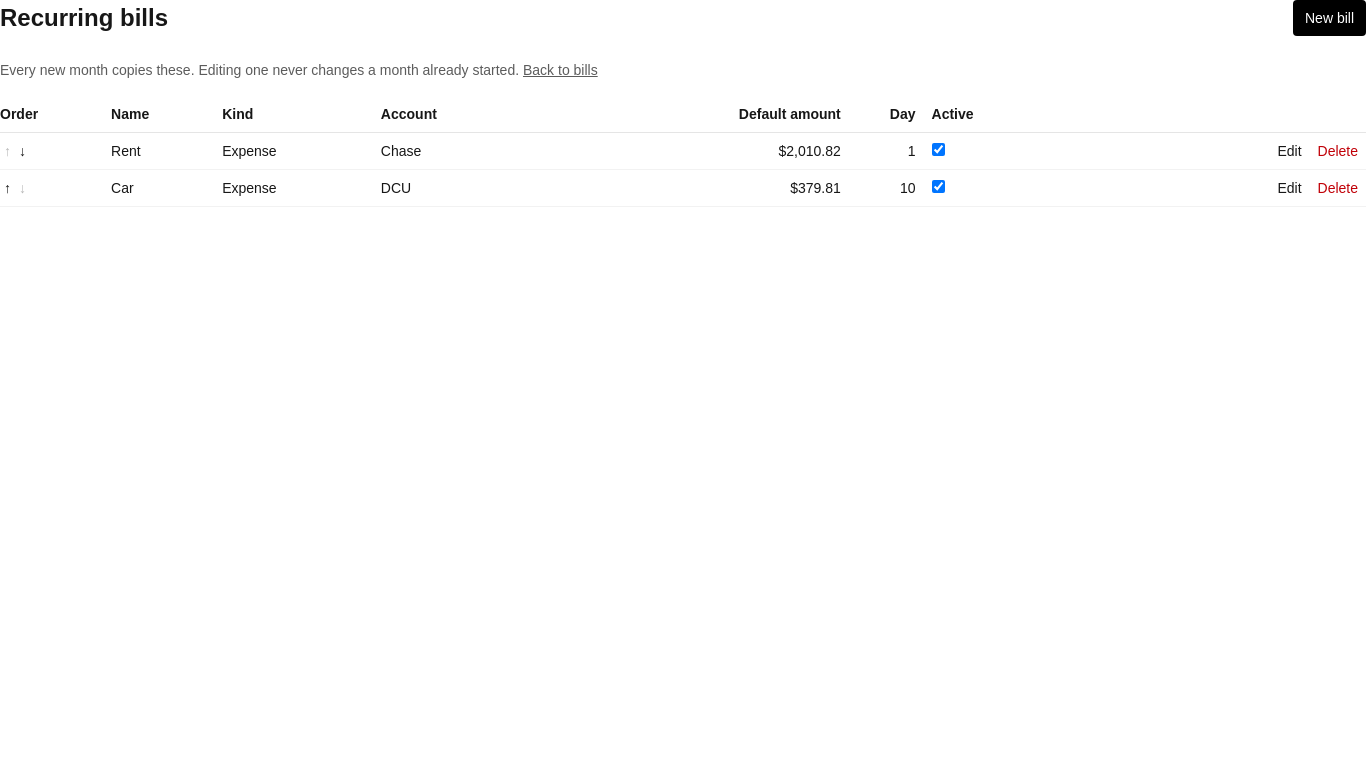
Test: RecurringItemsPage › with no payment accounts, points to Accounts and blocks saving
Expected: the text "Rent" is shown, [111,132,222,170]
Click the button "New bill" at (1330, 18), box [1293,0,1365,36]
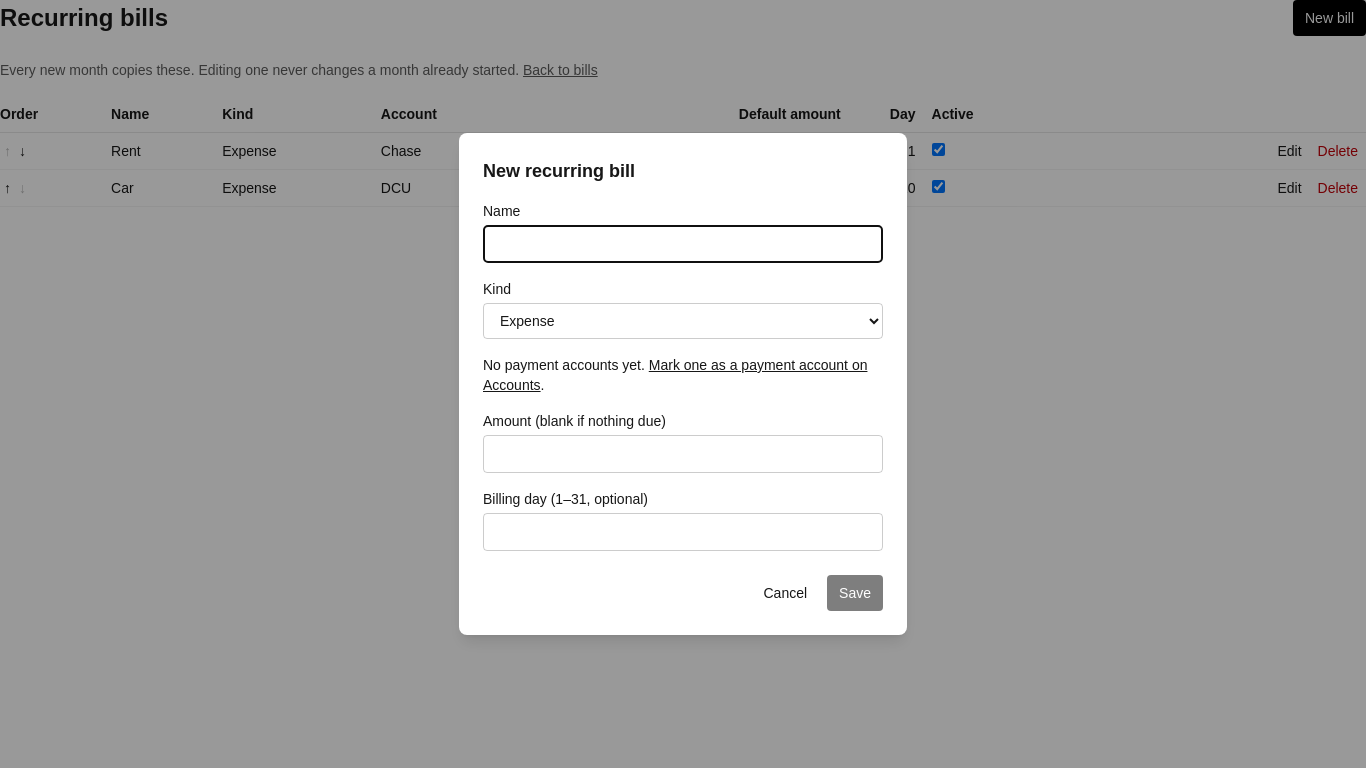
Expected: the button "Save" is disabled, [827,575,883,611]
